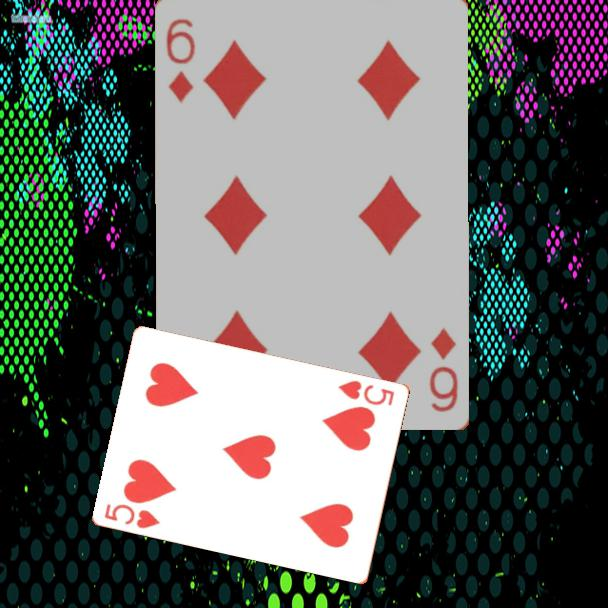d06: (163, 15, 199, 106), (426, 325, 461, 415)
h05: (335, 376, 398, 409), (101, 500, 163, 531)
